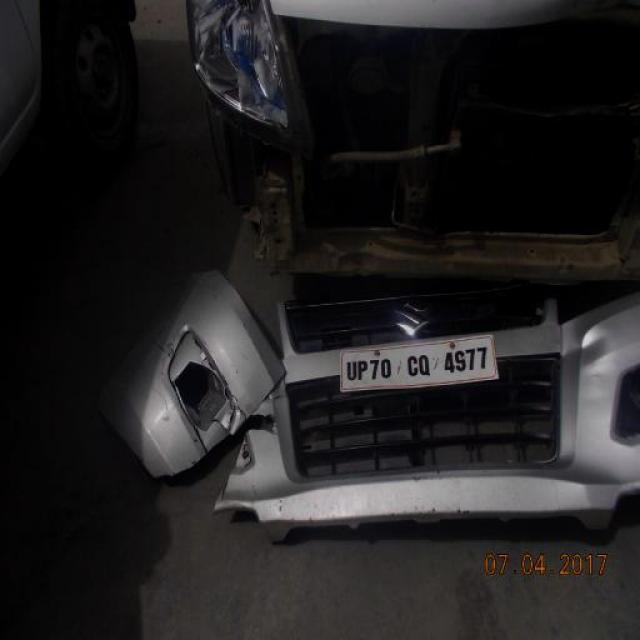car damage: (174, 8, 639, 306)
